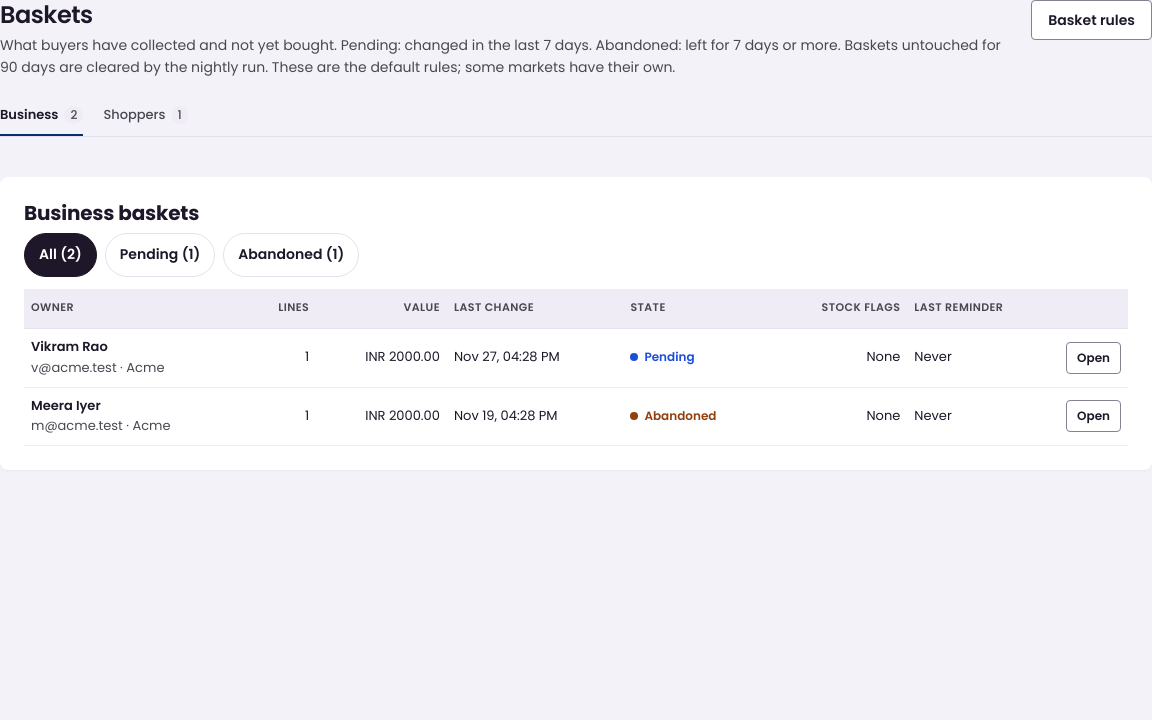
Test: Baskets: rules from settings › reloads after a partial save and says which row failed
The width and height of the screenshot is (1152, 720).
Click the button "Basket rules".
click(1092, 20)  # box [1031,0,1151,40]
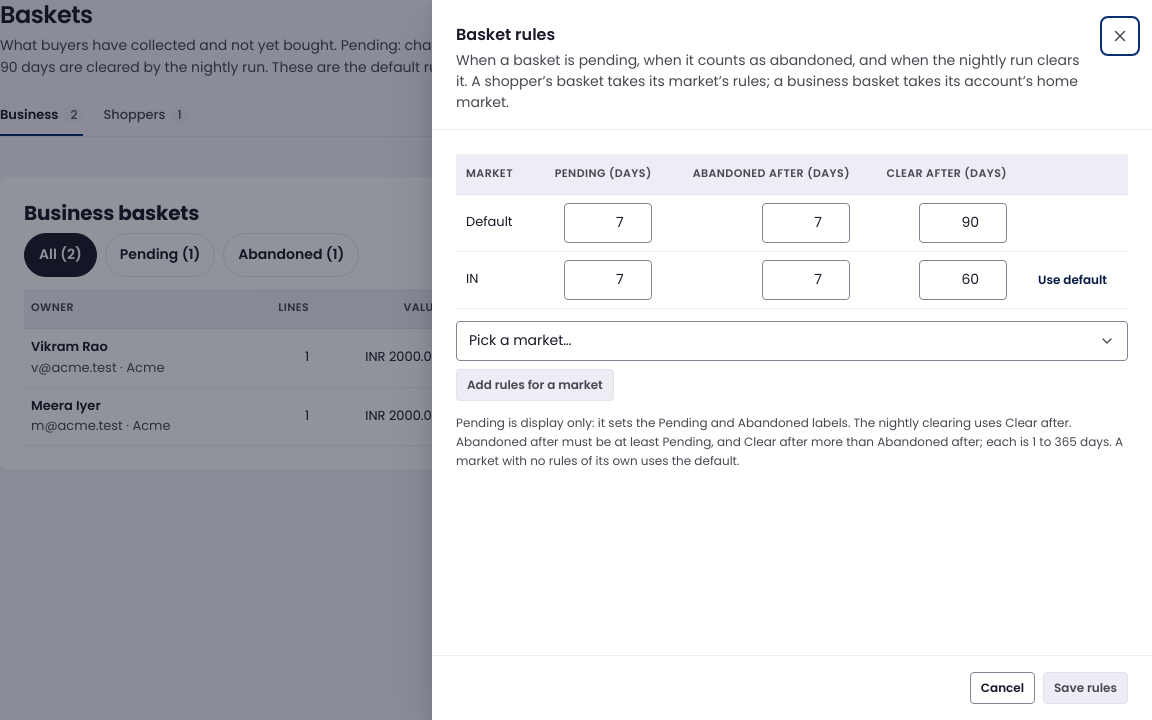
Replace the text in the number field named "Default pending days" with "5" at (608, 223), box [564,203,652,243]
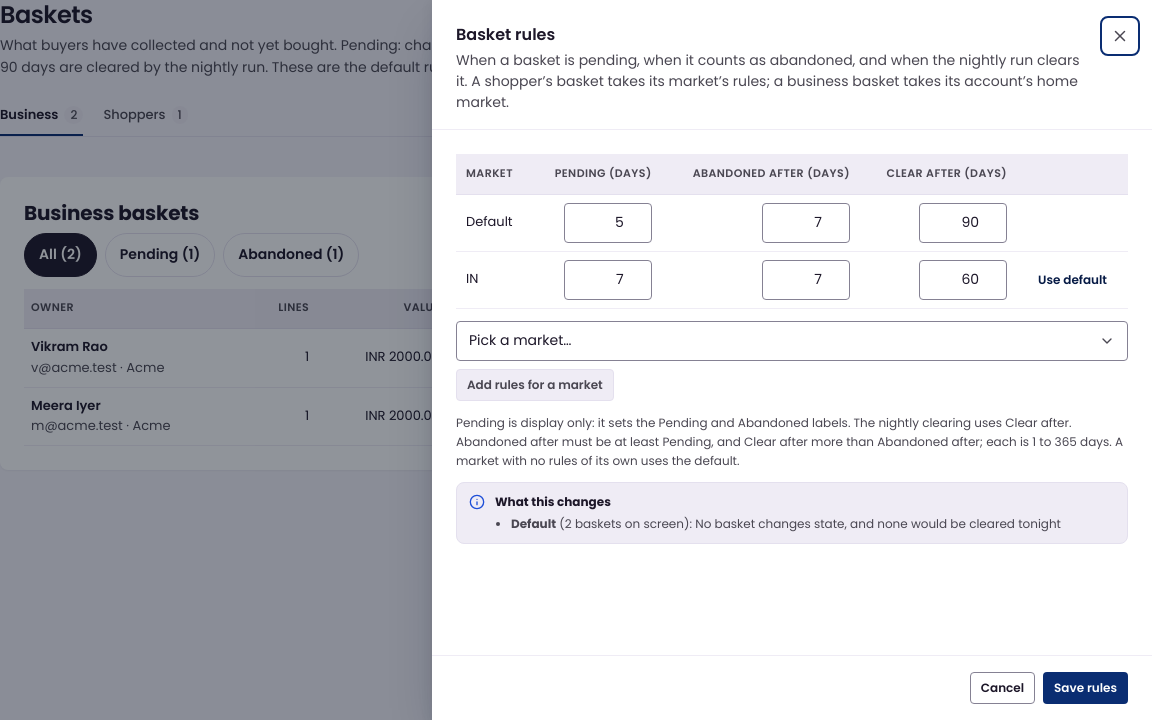
Replace the text in the number field named "IN pending days" with "5" at (608, 280), box [564,260,652,300]
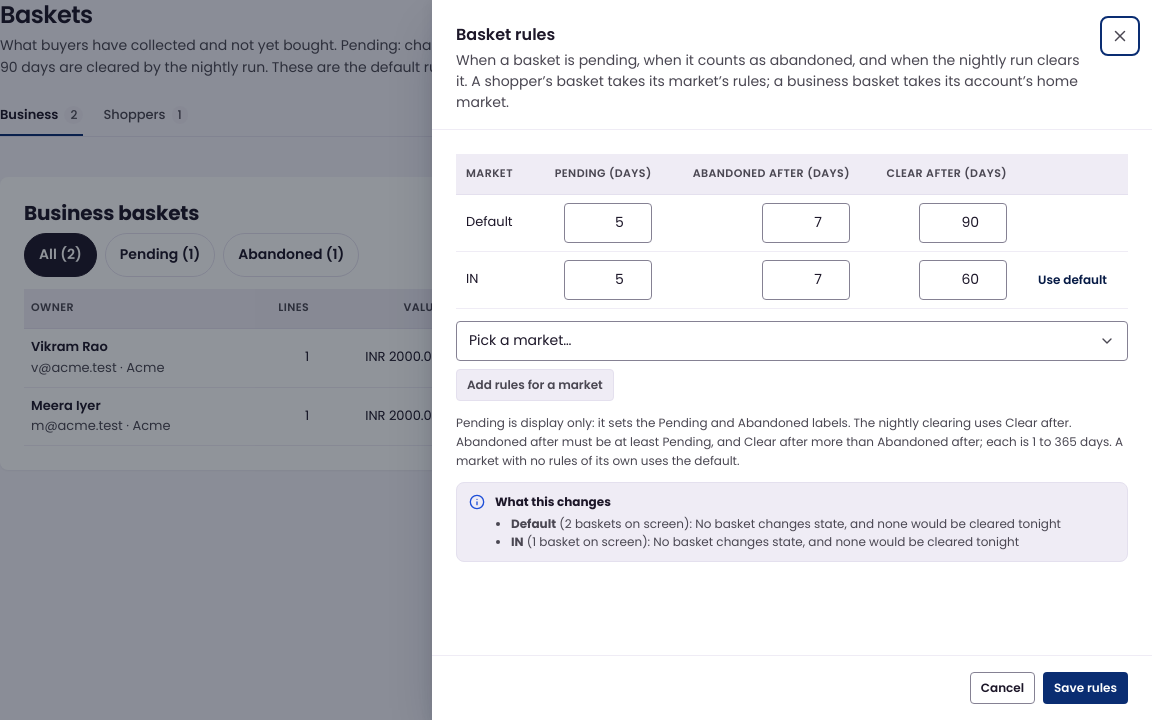
Click the button "Save rules".
click(1086, 688)  # box [1043,672,1128,704]
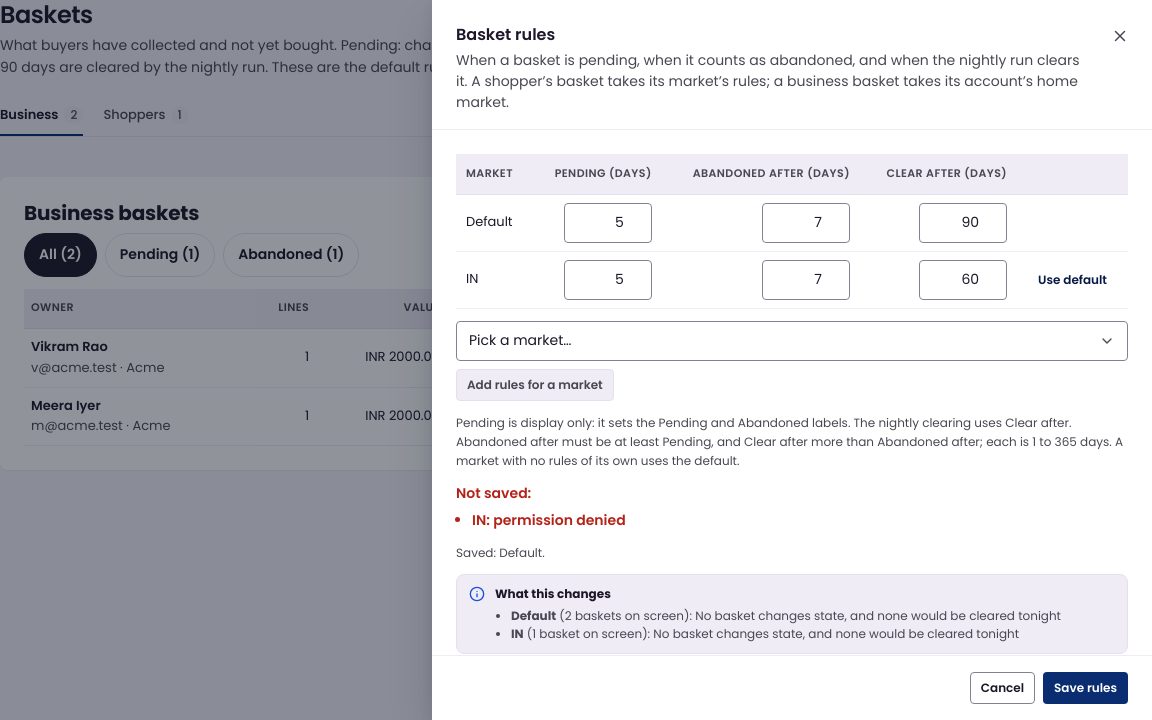
Expected: the list item "IN: permission denied" is shown, [472,510,626,530]
Expected: the text "Saved: Default." is shown, [456,544,545,561]
